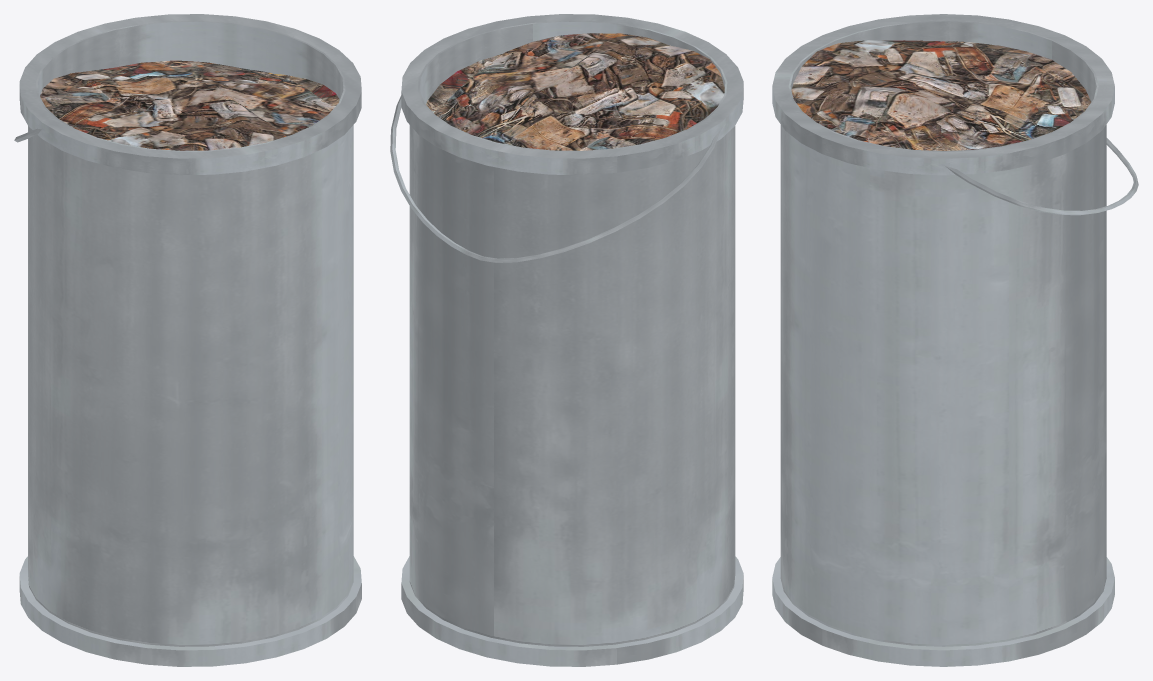
Rendered from trash-bin.glb.
The picture shows the model from 3 angles, left to right: view 1: azimuth 30°, elevation 25°; view 2: azimuth 150°, elevation 25°; view 3: azimuth 270°, elevation 25°; orthographic projection.
Visible parts, largest first — view 1: Cylinder; view 2: Cylinder; view 3: Cylinder.
Boxes of the visible parts, box(x1,y1,x2,y2) form: Cylinder: box(14, 14, 361, 666); Cylinder: box(390, 14, 743, 666); Cylinder: box(772, 14, 1138, 666).
Size of the model in its own units: 1.25 by 2 by 1.31.
Materials: 2 (2 with a texture image).
